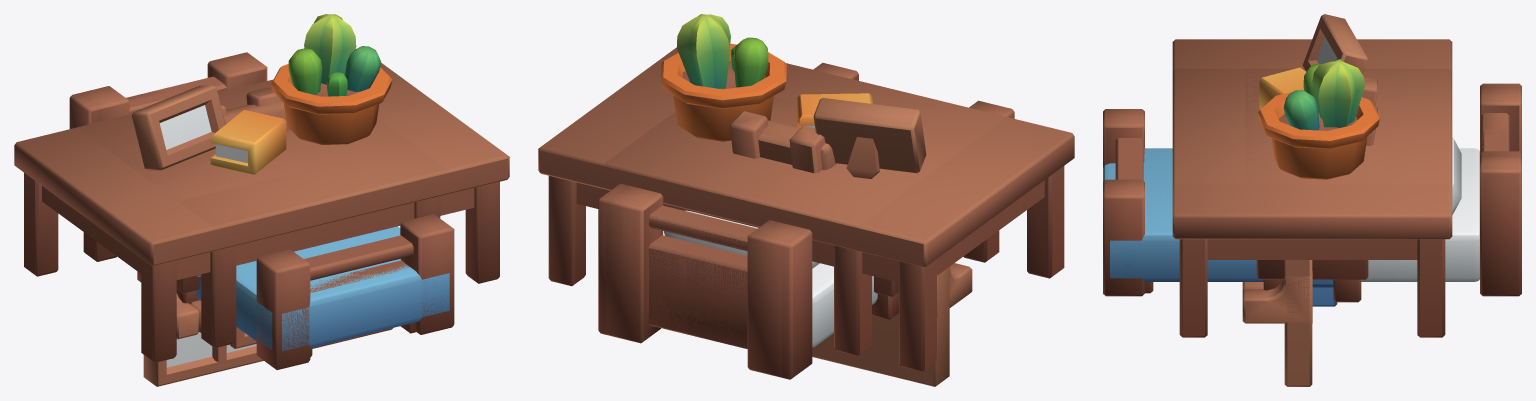
The model's file is furniture_kaykit.glb.
The picture shows the model from 3 angles, left to right: view 1: azimuth 30°, elevation 25°; view 2: azimuth 150°, elevation 25°; view 3: azimuth 270°, elevation 25°; orthographic projection. The views are drawn at different scales.
Parts seen in each view (by area): view 1: table_medium_long, table_medium, cabinet_medium_decorated, bed_single_B, bed_single_A, cabinet_medium, pictureframe_large_B, chair_B_wood, shelf_B_large; view 2: table_medium_long, bed_single_A, table_medium, cabinet_medium_decorated, bed_single_B, pictureframe_large_B, chair_A_wood, chair_B_wood, shelf_B_large, cabinet_medium; view 3: table_medium_long, table_medium, bed_single_B, cabinet_medium_decorated, bed_single_A, pictureframe_large_B, shelf_B_large, cabinet_medium, book_set, chair_B_wood.
Part boxes in pixels (box(x1,y1,x2,y2)): table_medium_long: box(14, 63, 509, 362); table_medium: box(77, 79, 448, 347); cabinet_medium_decorated: box(132, 14, 392, 304); bed_single_B: box(69, 52, 454, 369); bed_single_A: box(78, 53, 449, 357); cabinet_medium: box(123, 130, 335, 303); pictureframe_large_B: box(143, 328, 392, 386); chair_B_wood: box(220, 87, 290, 131); shelf_B_large: box(176, 293, 201, 339); table_medium_long: box(538, 47, 1074, 371); bed_single_A: box(606, 185, 877, 377); table_medium: box(604, 63, 1006, 355); cabinet_medium_decorated: box(661, 14, 926, 319); bed_single_B: box(598, 62, 1014, 379); pictureframe_large_B: box(812, 267, 949, 386); chair_A_wood: box(731, 111, 825, 173); chair_B_wood: box(730, 112, 836, 170); shelf_B_large: box(937, 263, 972, 317); cabinet_medium: box(658, 97, 898, 319); table_medium_long: box(1172, 39, 1452, 337); table_medium: box(1173, 68, 1451, 186); bed_single_B: box(1103, 83, 1521, 296); cabinet_medium_decorated: box(1257, 14, 1379, 301); bed_single_A: box(1103, 86, 1521, 293); pictureframe_large_B: box(1284, 260, 1312, 386); shelf_B_large: box(1242, 271, 1312, 323); cabinet_medium: box(1245, 69, 1379, 302); book_set: box(1312, 287, 1337, 306); chair_B_wood: box(1362, 77, 1377, 145).
Bounding box in the file's own units: 3 × 2.43 × 3.
1 material, 1 textured.
